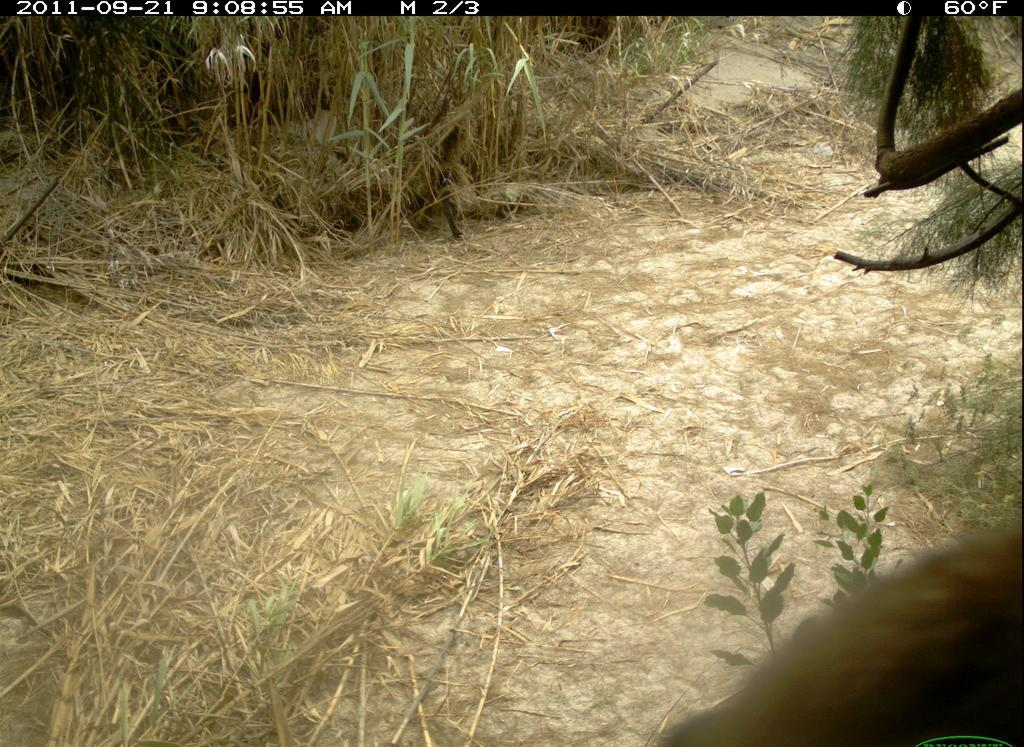bobcat: (643, 513, 1021, 747)
